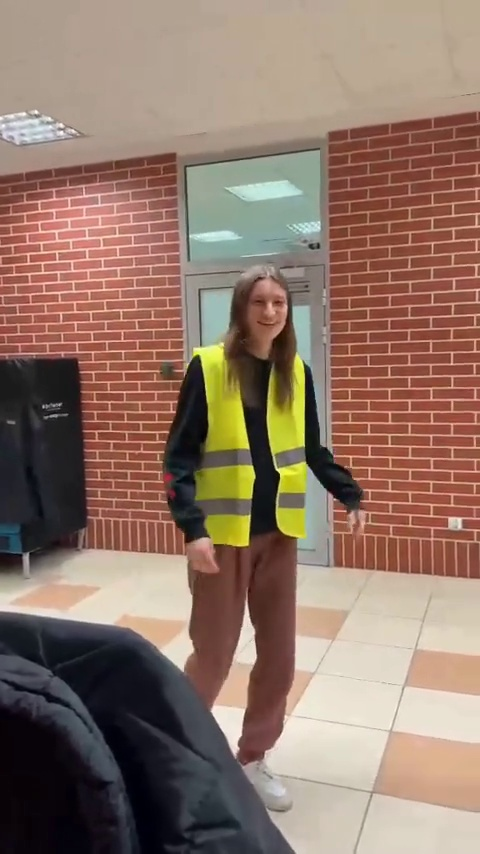vest: (174, 270, 362, 812)
